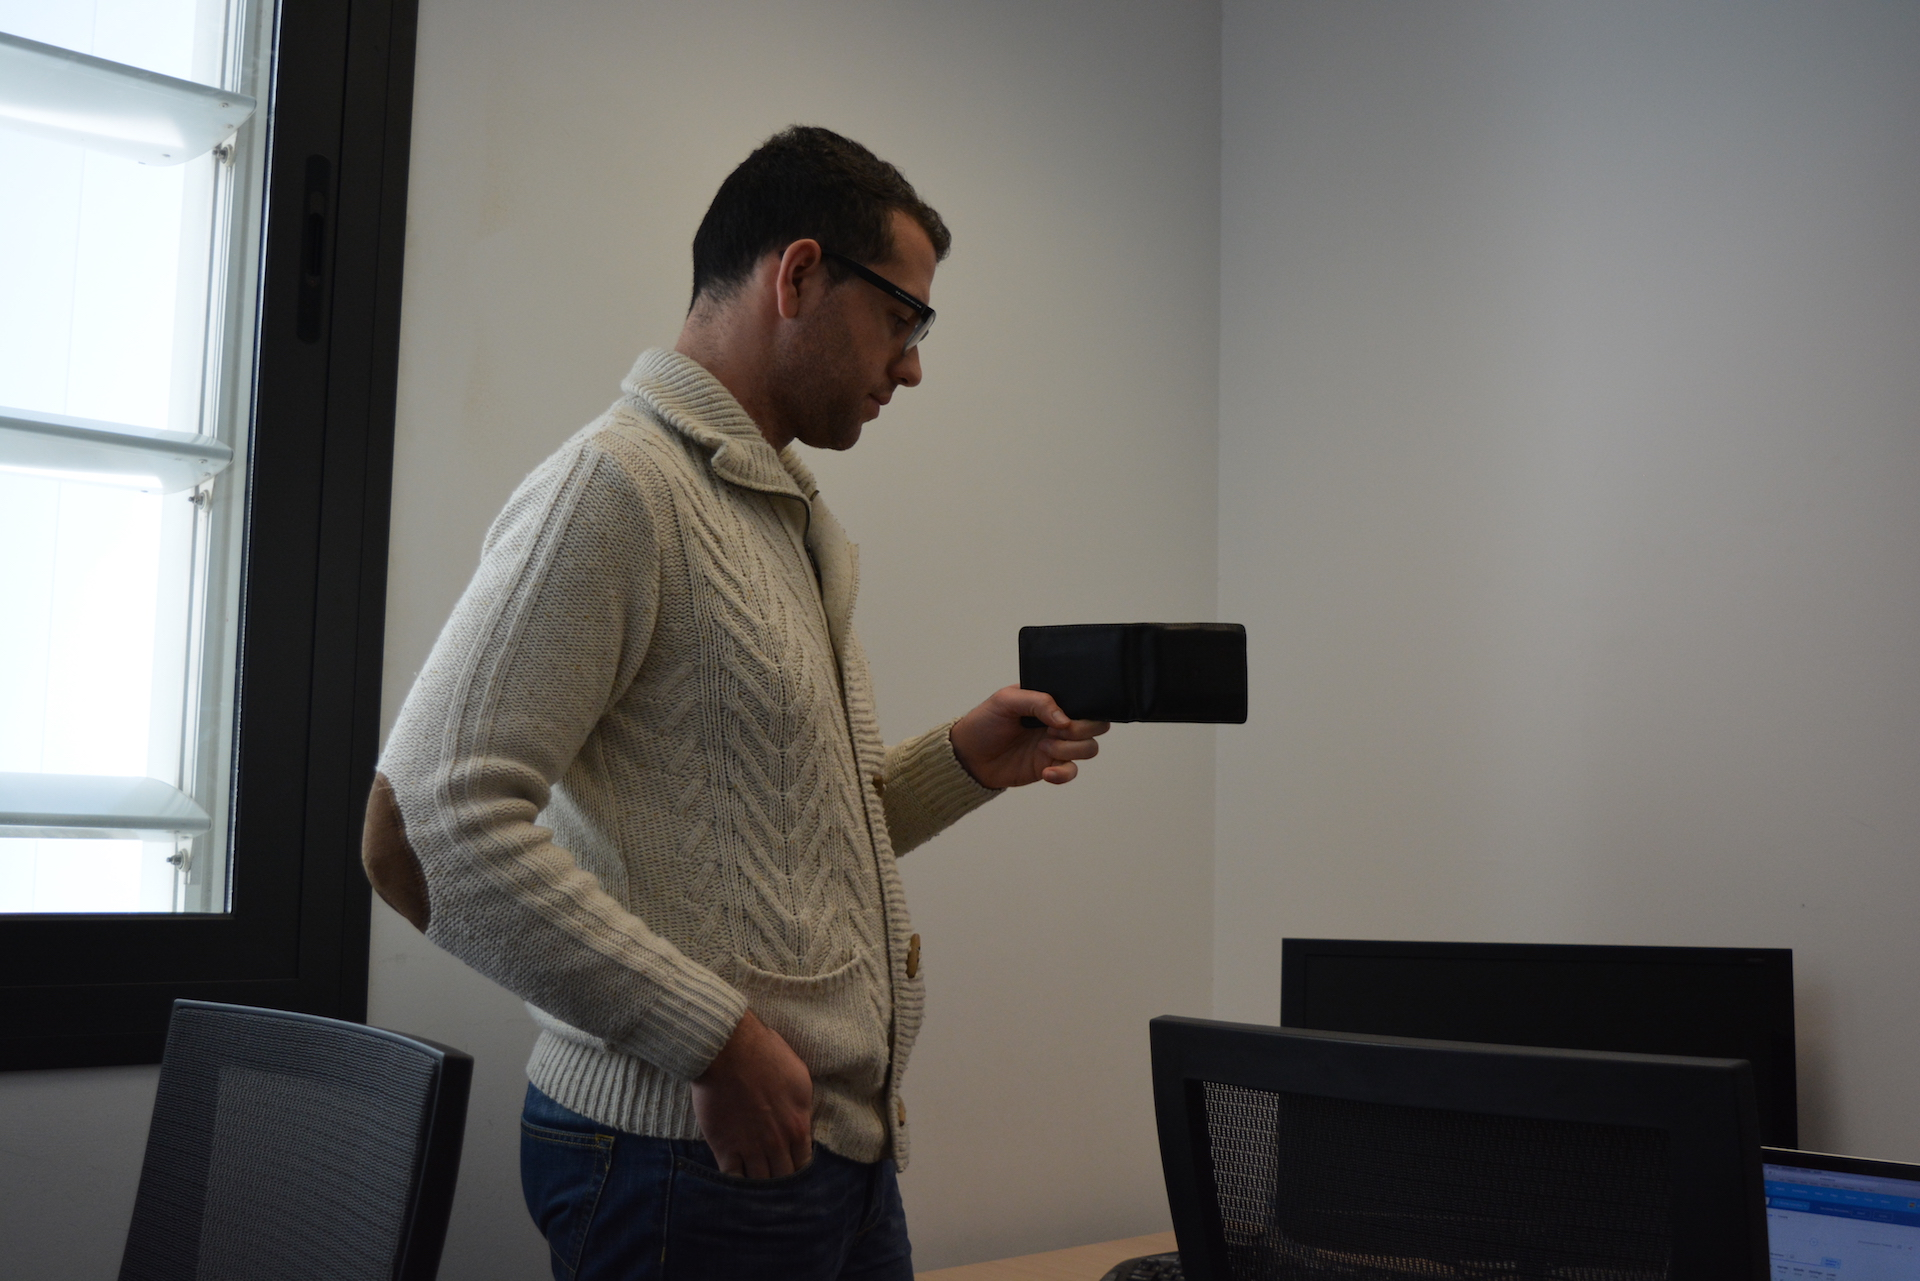monedero: (1015, 620, 1250, 726)
